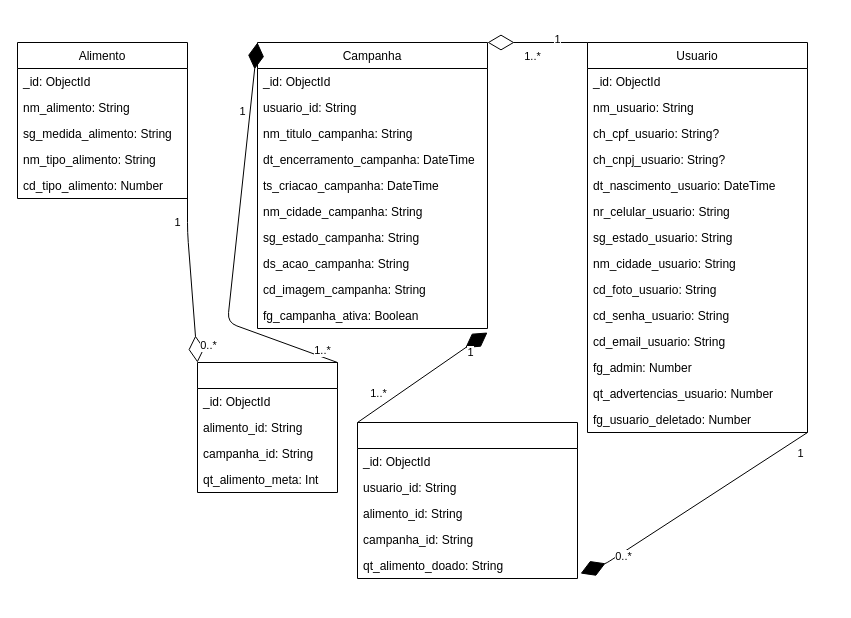
The diagram is 851 pixels wide and 618 high, and some of its shapes have lost their labels. Each missing label, with the box of its shape:
Alimento_campanha: (196, 362, 338, 492)
Alimento_doacao: (356, 422, 578, 578)
